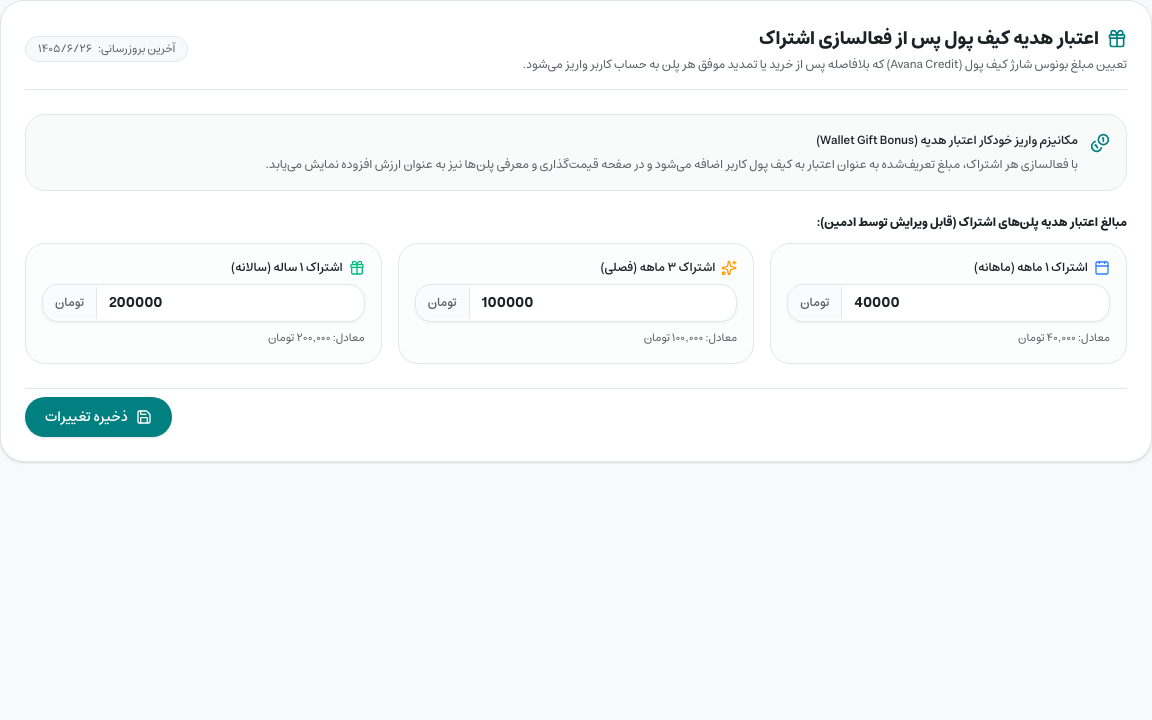
Test: Admin Subscription Gift Credit Bonuses UI Suite › 4. Successfully submits updated bonuses and refreshes UI with new amounts
Type "50000" into the number field named "مبلغ هدیه اشتراک ۱ ماهه".
click(976, 303); type("50000")  # box [842,285,1109,321]
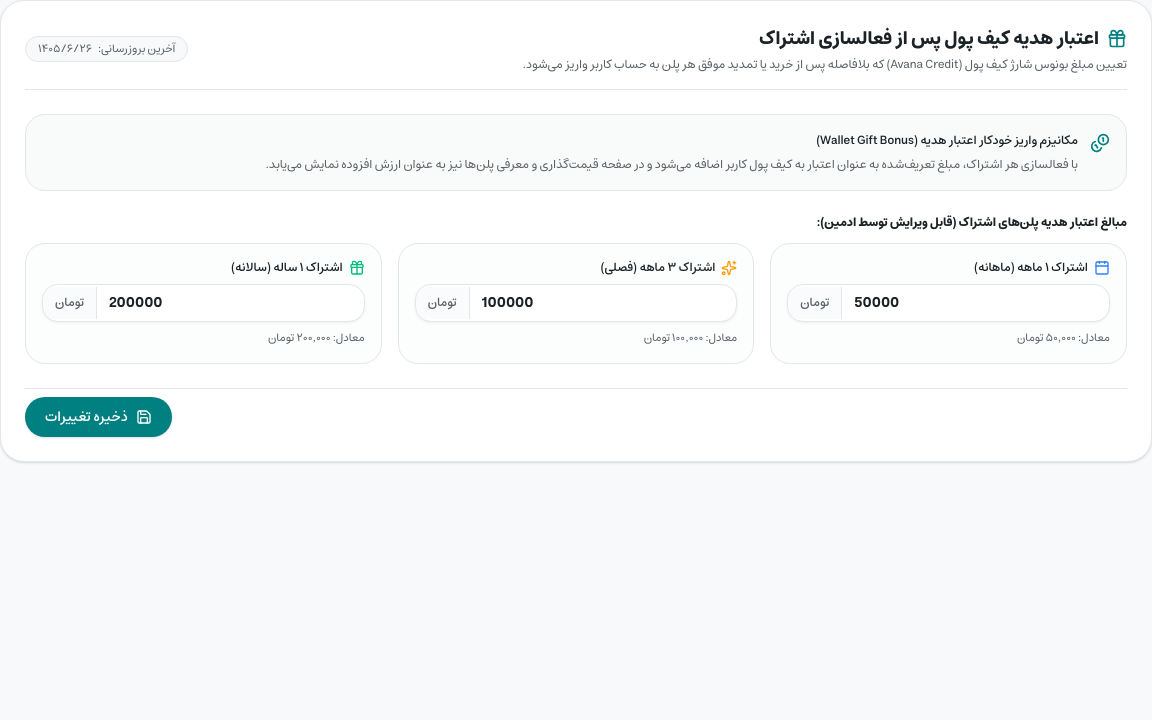
Type "120000" into the number field named "مبلغ هدیه اشتراک ۳ ماهه".
click(603, 303); type("120000")  # box [470,285,736,321]
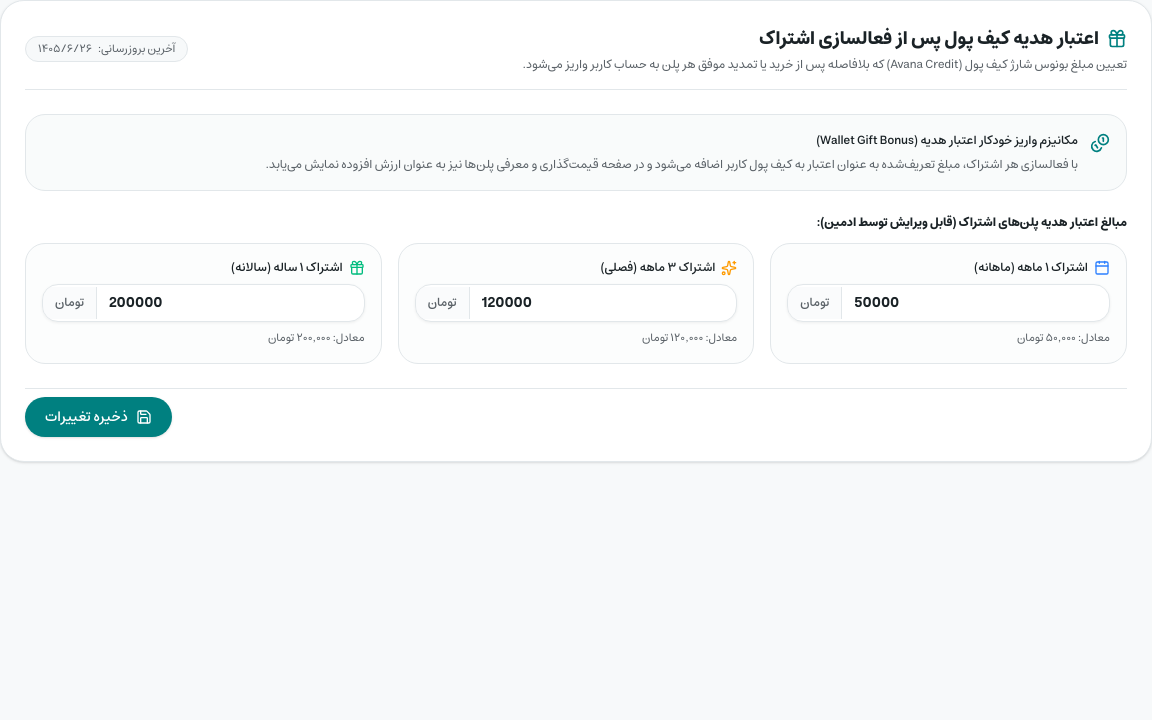
Type "250000" into the number field named "مبلغ هدیه اشتراک ۱ ساله".
click(230, 303); type("250000")  # box [97,285,364,321]
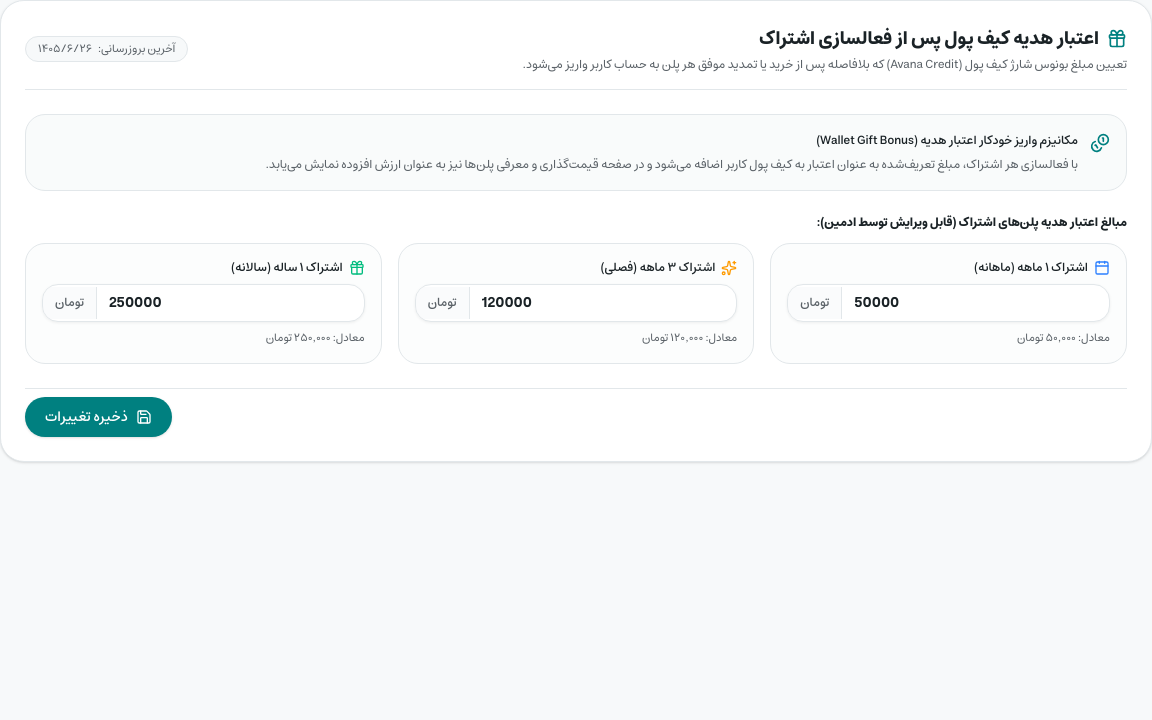
Click the button "ذخیره تغییرات".
click(98, 416)  # box [25,396,172,436]
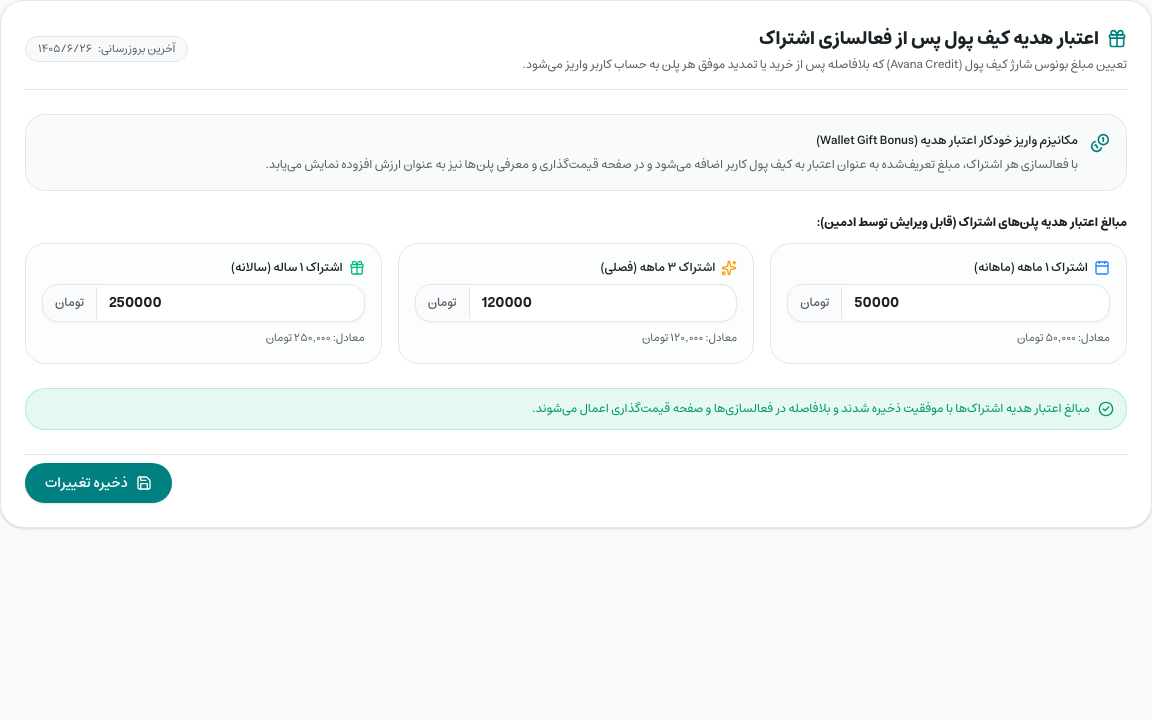
expect the text "معادل: ۵۰٬۰۰۰ تومان" is shown: met, box [1017,328,1110,347]
expect the text "معادل: ۱۲۰٬۰۰۰ تومان" is shown: met, box [642,328,737,347]
expect the text "مبالغ اعتبار هدیه اشتراک‌ها با موفقیت ذخیره شدند" is shown: met, box [532,398,1090,418]
